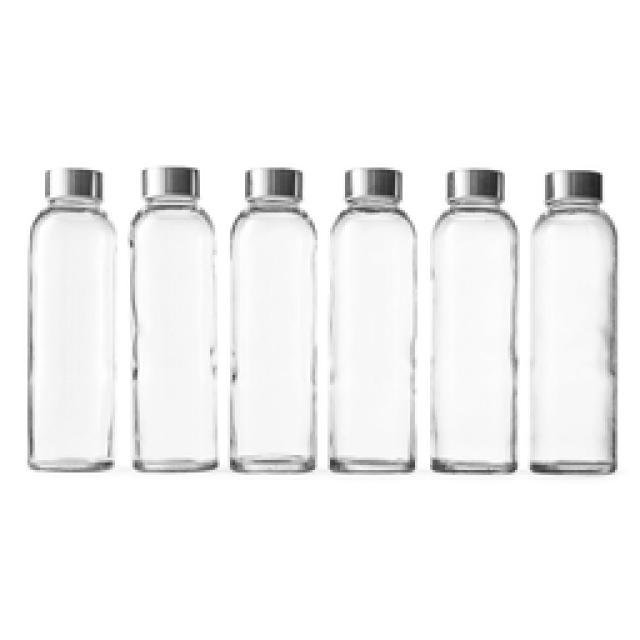glass_beverage_bottles: (223, 163, 332, 462), (523, 168, 620, 478), (20, 162, 118, 465), (132, 157, 222, 483), (432, 160, 518, 470), (335, 174, 423, 464)
